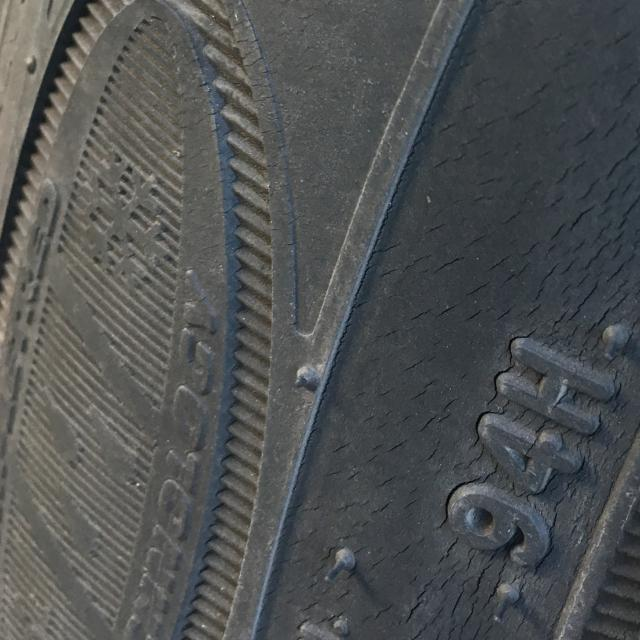Cracks: (236, 0, 640, 640)
